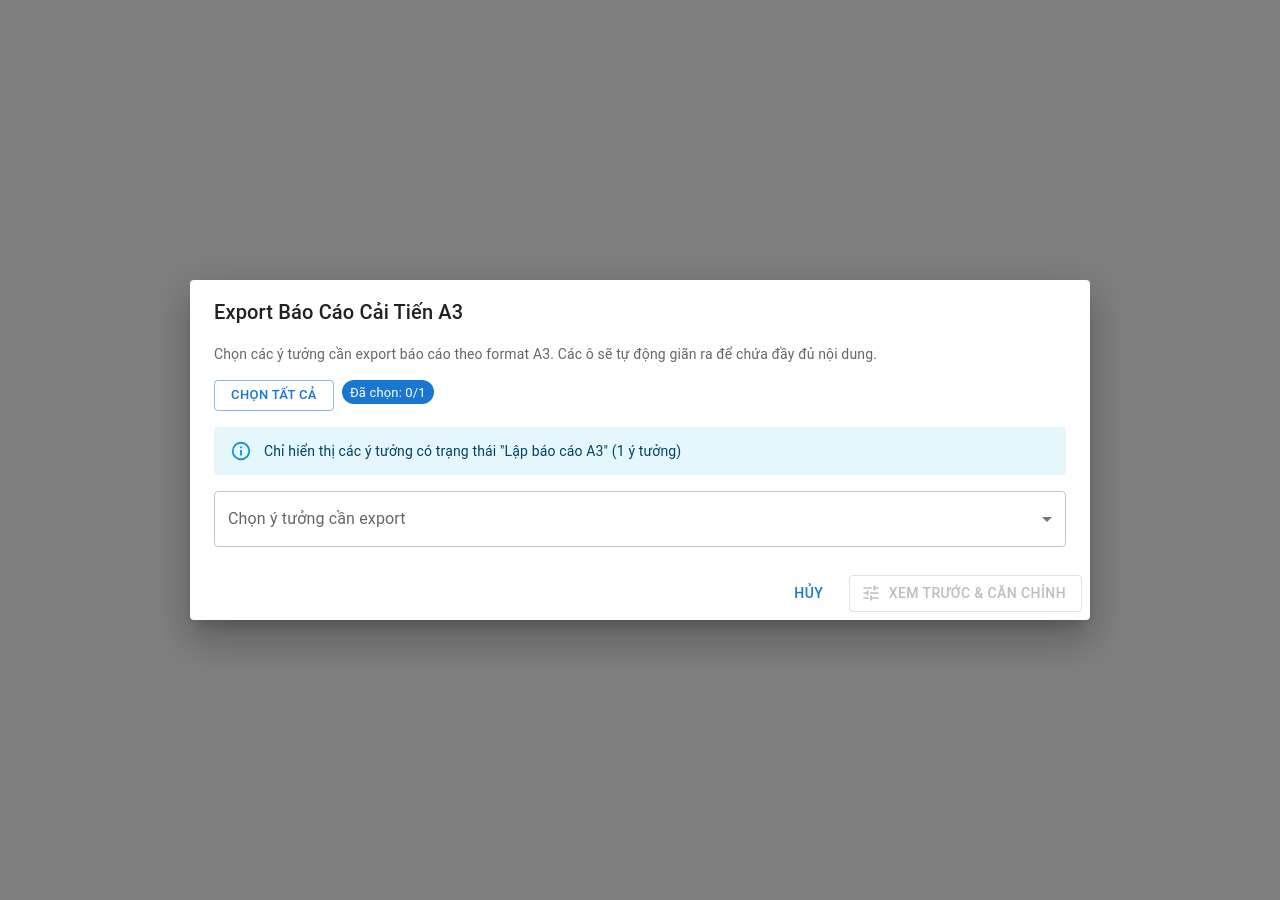
Test: ExportReportDialog allows selecting idea and opening layout editor
The image size is (1280, 900).
Click the button "Chọn tất cả" at {"x": 274, "y": 396}, box x1=214 y1=380 x2=334 y2=411
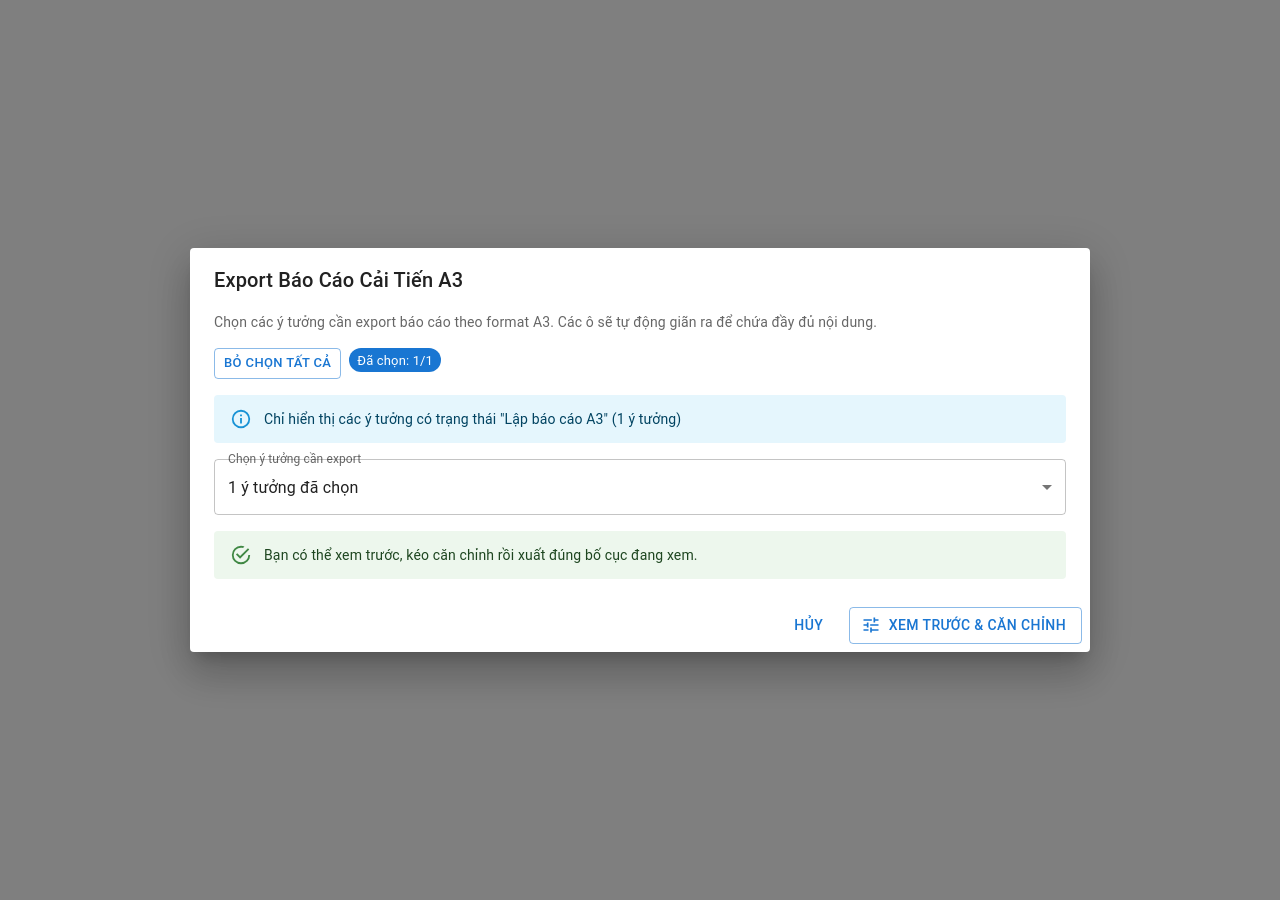
Expected: the button "Xem trước & căn chỉnh" is enabled, x1=849 y1=607 x2=1082 y2=644
